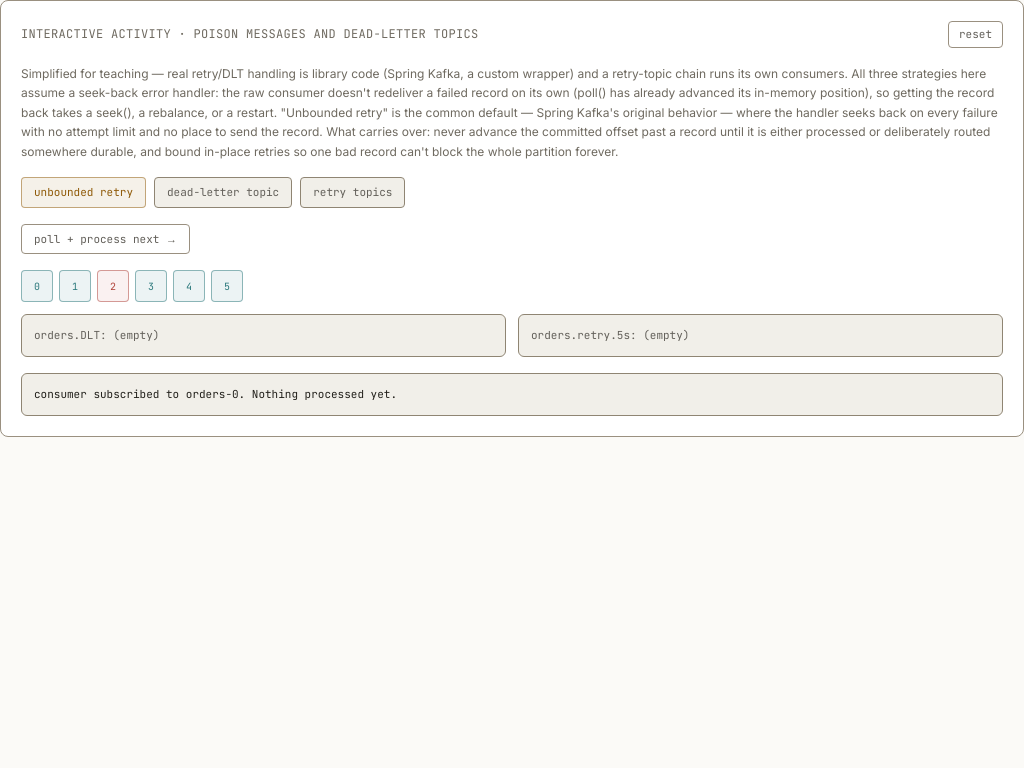
Test case: PoisonMessageDemo › with unbounded retry, the poison record blocks the partition forever
The width and height of the screenshot is (1024, 768).
Click the button "poll + process next →" at (106, 239), box [21,224,190,254]
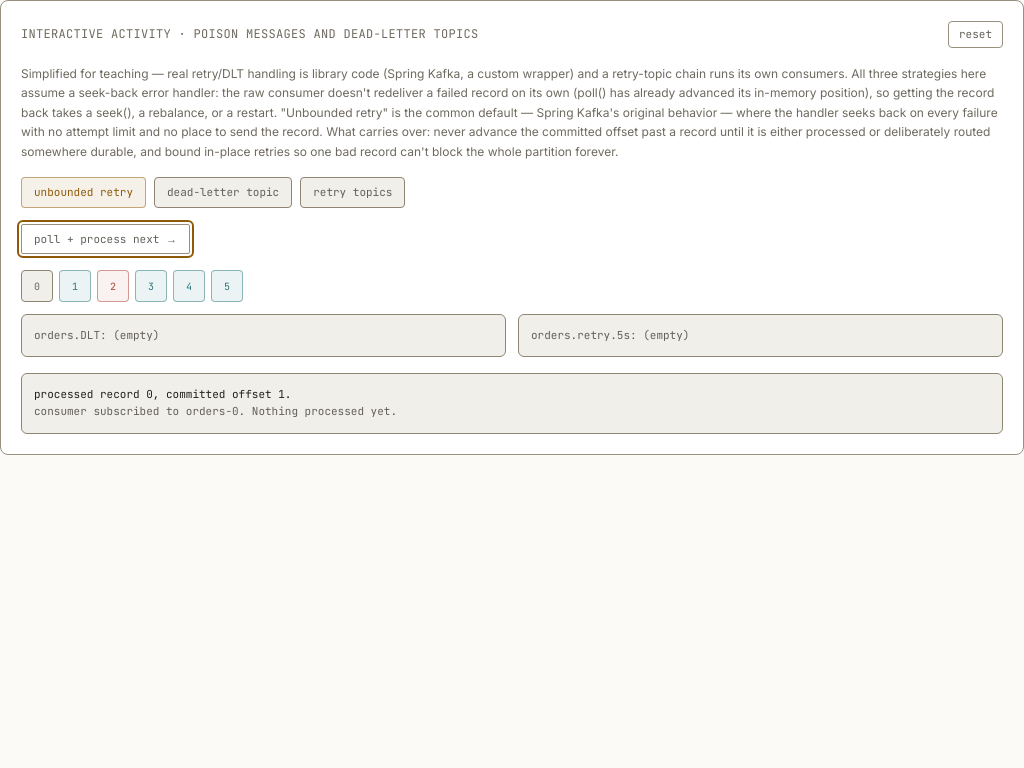
Click the button "poll + process next →" at (106, 239), box [21,224,190,254]
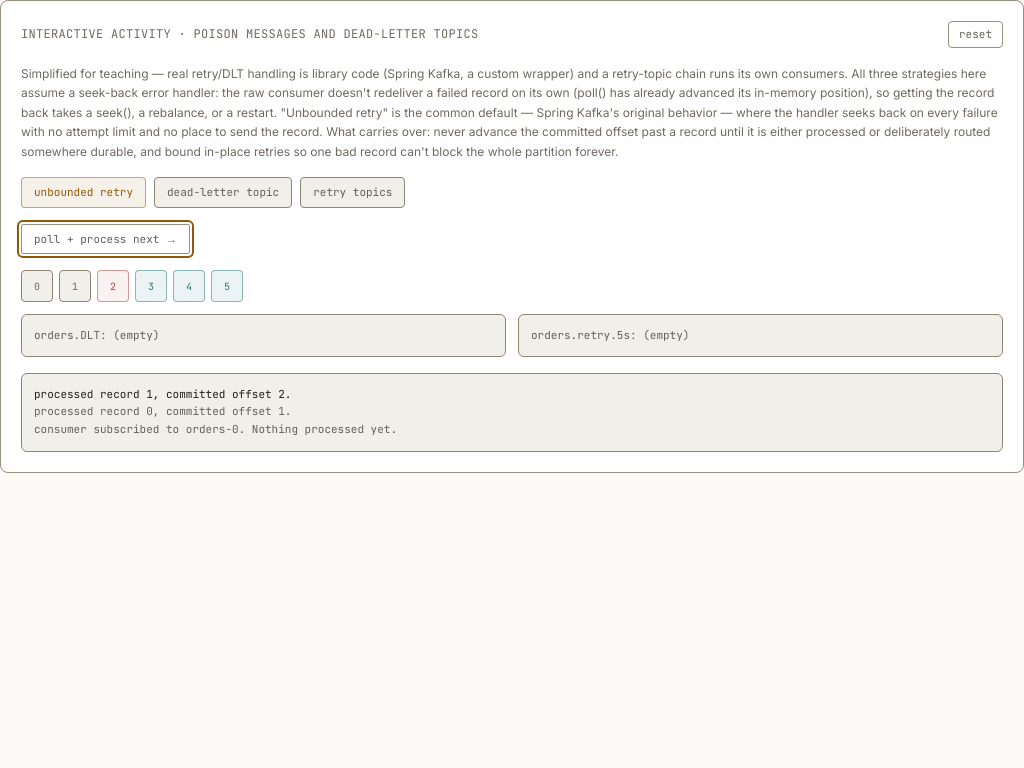
Click the button "poll + process next →" at (106, 239), box [21,224,190,254]
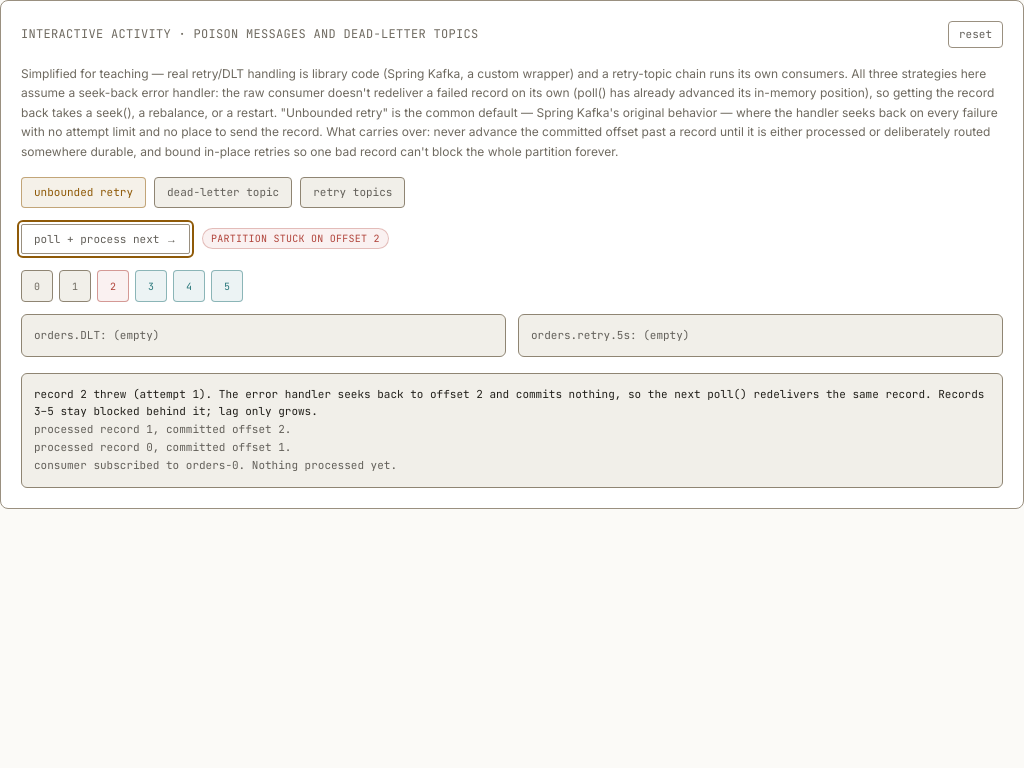
Click the button "poll + process next →" at (106, 239), box [21,224,190,254]
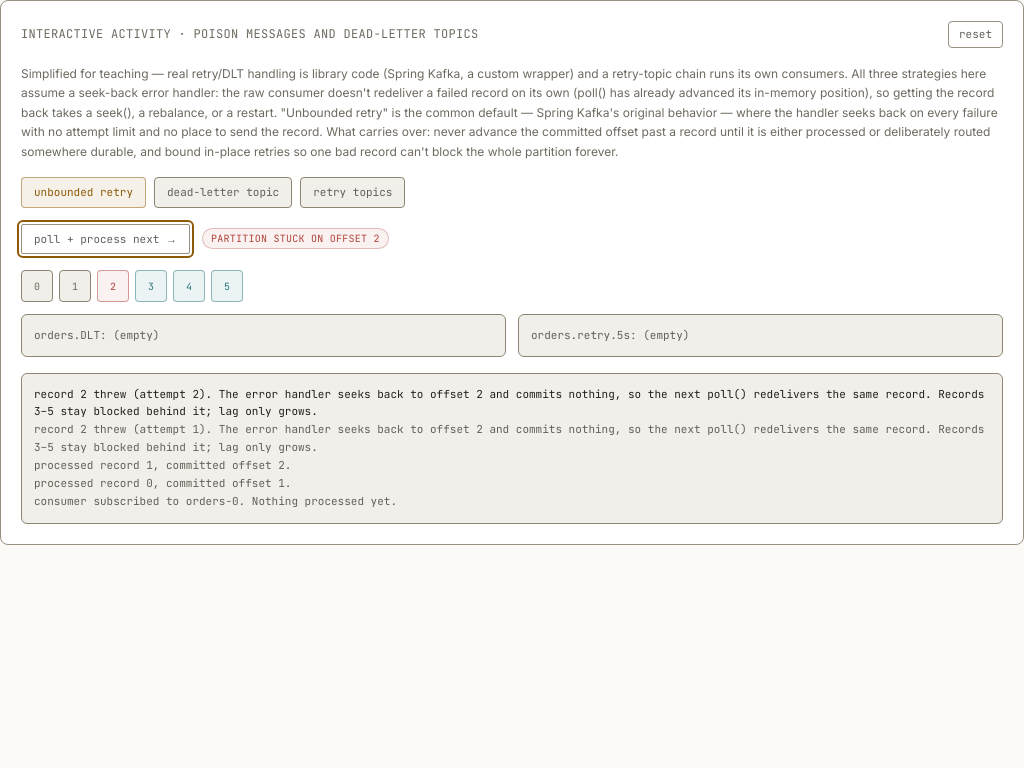
Expected: the text with test id "dlt" reads "orders.DLT: (empty)", [21,314,506,356]
Expected: the text "partition stuck on offset 2" is shown, [202,228,389,249]
Expected: the text "record 2 threw (attempt 2). The error handler seeks back to offset 2" is shown, [34,386,984,418]
